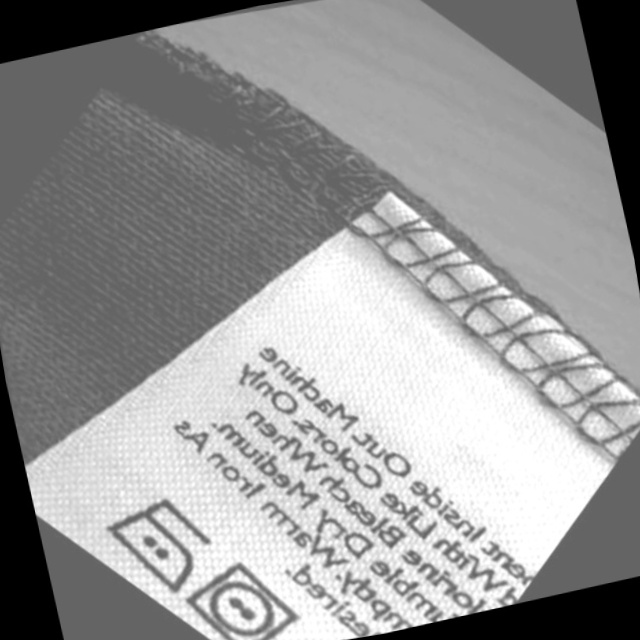iron_medium: (90, 484, 223, 608)
tumble_dry_medium: (172, 548, 307, 640)
